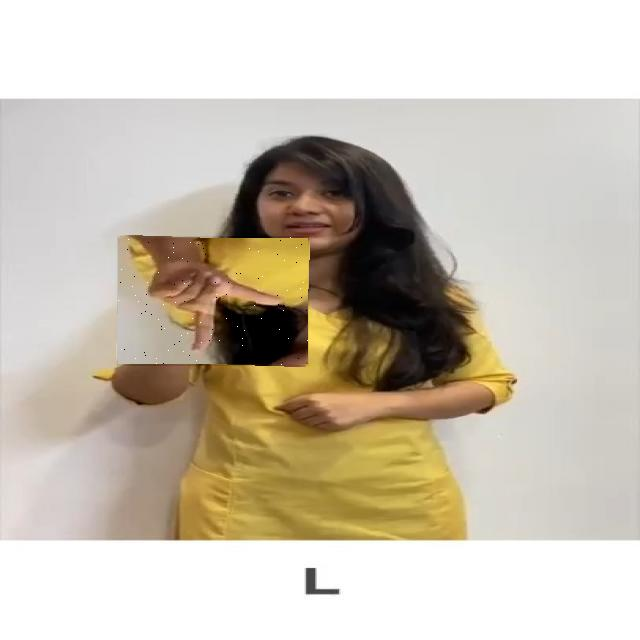L: (117, 236, 309, 366)
